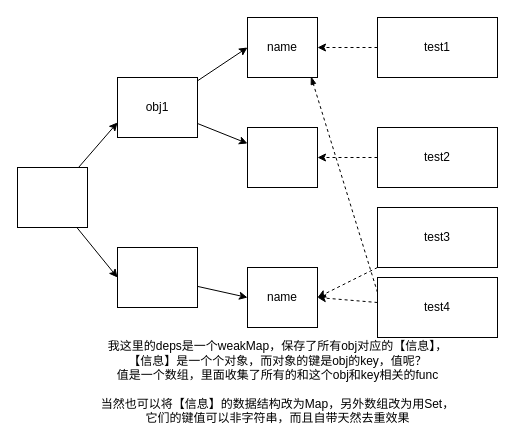
Some shapes in this 515 by 445 pixel diagram are drawn without their labels. The box of each missing label's shape, as (x1, y1, x2, y2) in pixels:
age: (246, 126, 318, 188)
deps: (16, 166, 88, 228)
obj2: (116, 246, 198, 308)
